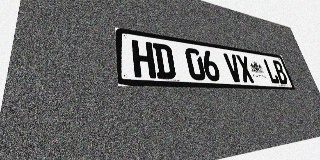0: (184, 47, 207, 81)
6: (200, 50, 222, 81)
B: (272, 60, 289, 84)
D: (152, 43, 176, 79)
H: (131, 40, 156, 78)
L: (262, 59, 280, 84)
V: (223, 53, 243, 82)
X: (235, 55, 255, 83)
